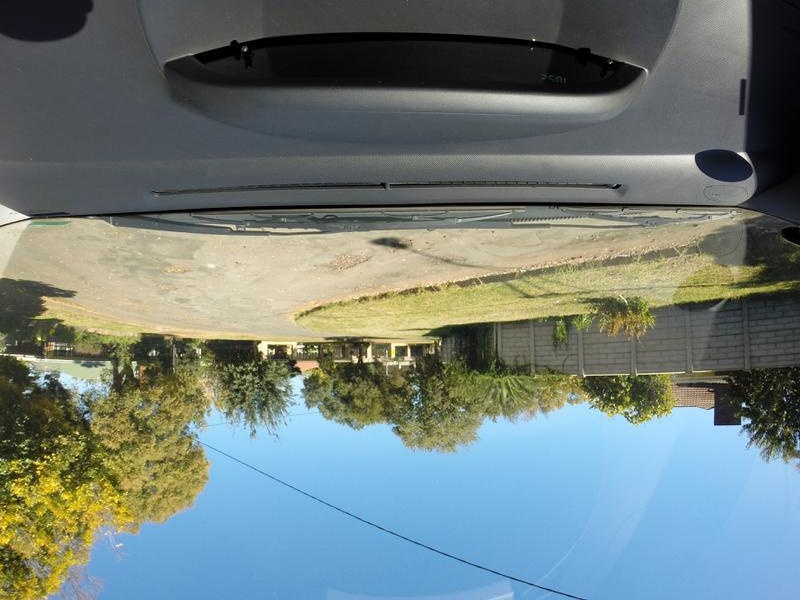pothole: (322, 247, 378, 285), (411, 249, 466, 268), (152, 259, 193, 279)
